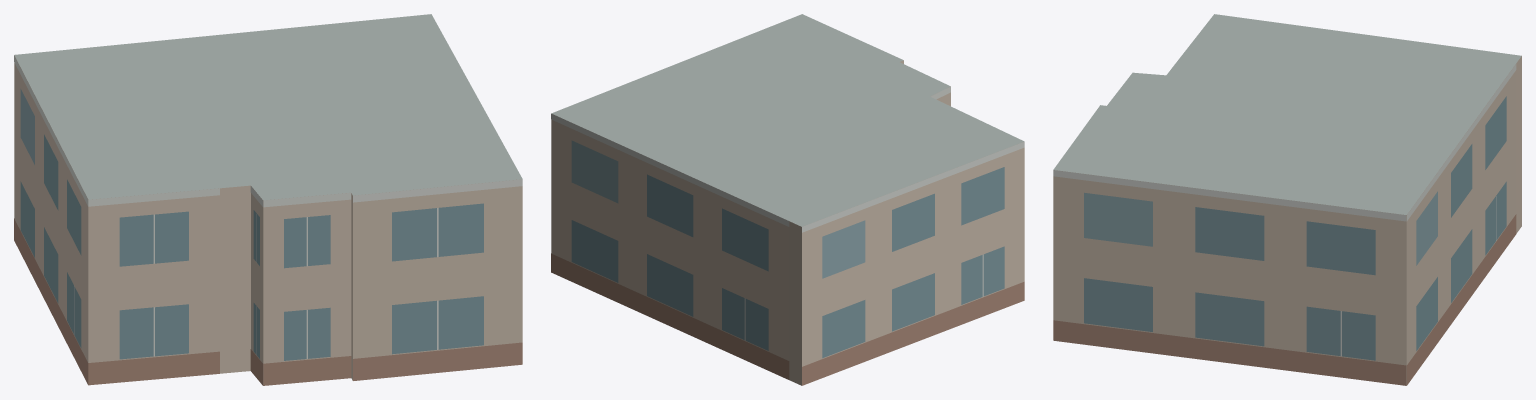
The model's file is survey-upis-33003686.glb.
3 renders of one model, left to right at view 1: azimuth 30°, elevation 25°; view 2: azimuth 150°, elevation 25°; view 3: azimuth 270°, elevation 25°, orthographic. The views are drawn at different scales.
Parts seen in each view (by area): view 1: survey-upis-33003686.tmp; view 2: survey-upis-33003686.tmp; view 3: survey-upis-33003686.tmp.
Part boxes in pixels (x1,y1,x2,y2): survey-upis-33003686.tmp: [14, 14, 522, 385]; survey-upis-33003686.tmp: [551, 14, 1024, 385]; survey-upis-33003686.tmp: [1053, 14, 1521, 385].
Bounding box in the file's own units: 16.43 × 6.5 × 16.18.
